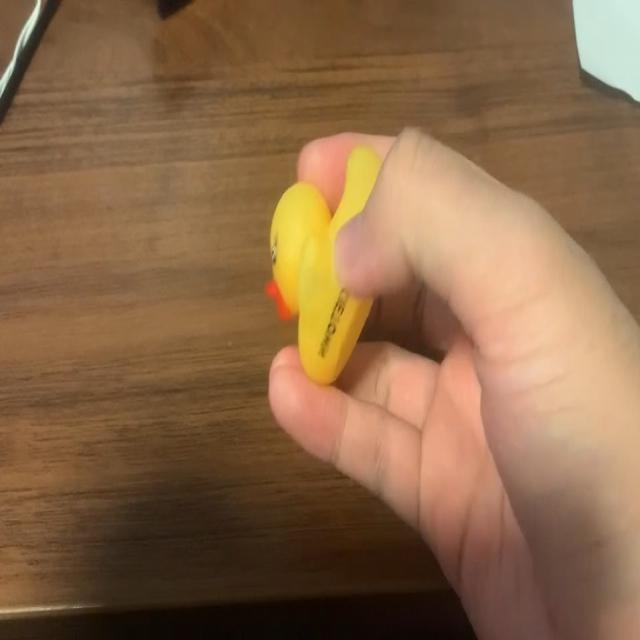rubber-duck: (265, 144, 380, 382)
